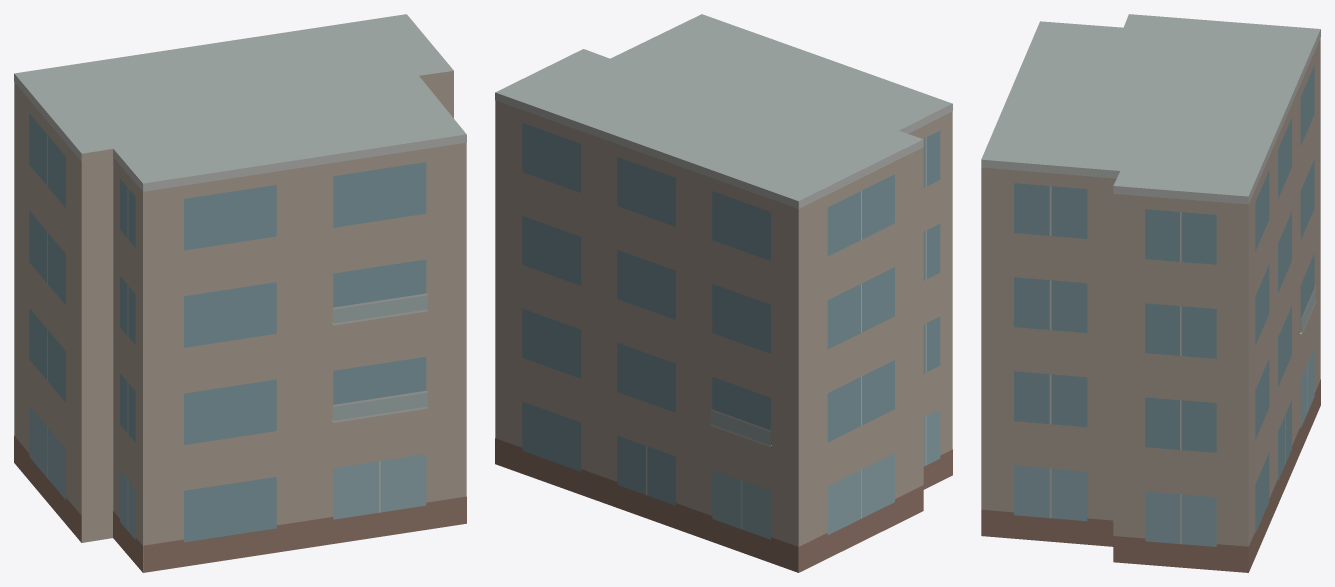
The model's file is survey-upis-32702605.glb.
3 renders of one model, left to right at view 1: azimuth 30°, elevation 25°; view 2: azimuth 150°, elevation 25°; view 3: azimuth 270°, elevation 25°, orthographic. The views are drawn at different scales.
Parts seen in each view (by area): view 1: survey-upis-32702605.tmp; view 2: survey-upis-32702605.tmp; view 3: survey-upis-32702605.tmp.
Part boxes in pixels (x1,y1,x2,y2): survey-upis-32702605.tmp: (14,14,466,572); survey-upis-32702605.tmp: (495,14,952,572); survey-upis-32702605.tmp: (981,14,1320,572).
Bounding box in the file's own units: 12.08 × 11.6 × 9.5.
